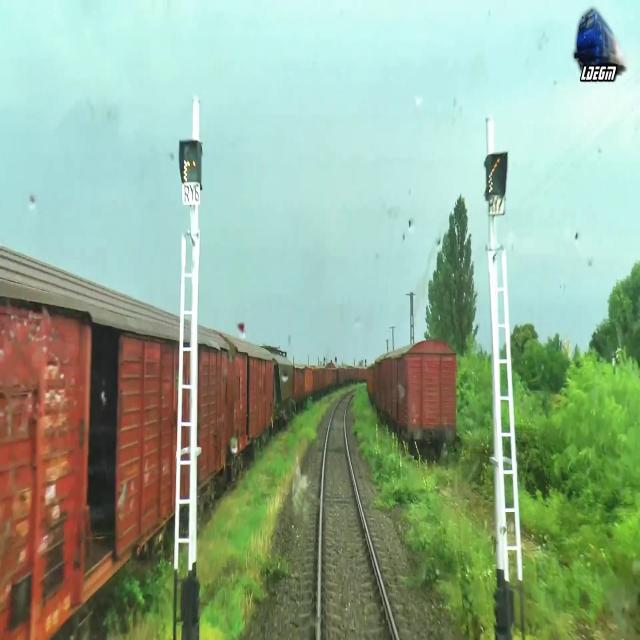rail-track: (322, 398, 394, 639)
